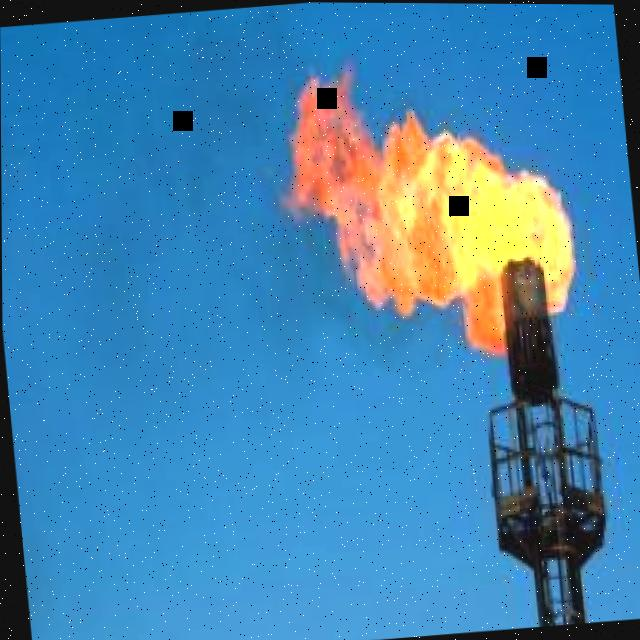fire: (282, 63, 574, 353)
